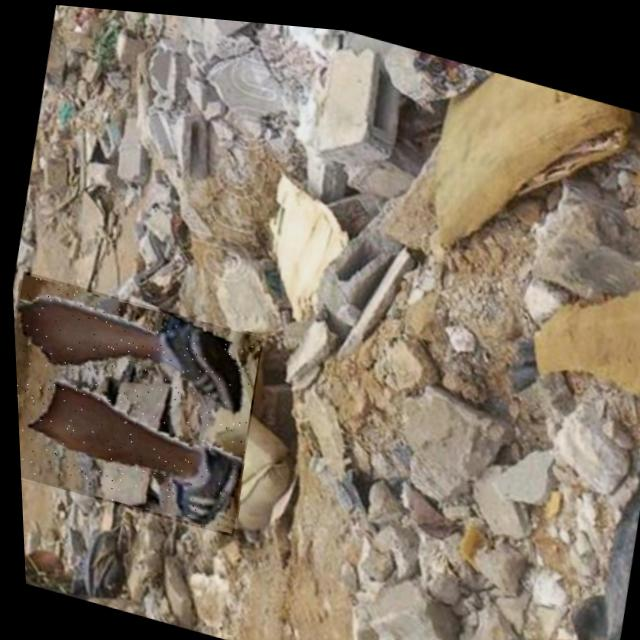Person in Rubble: (9, 269, 267, 534)
